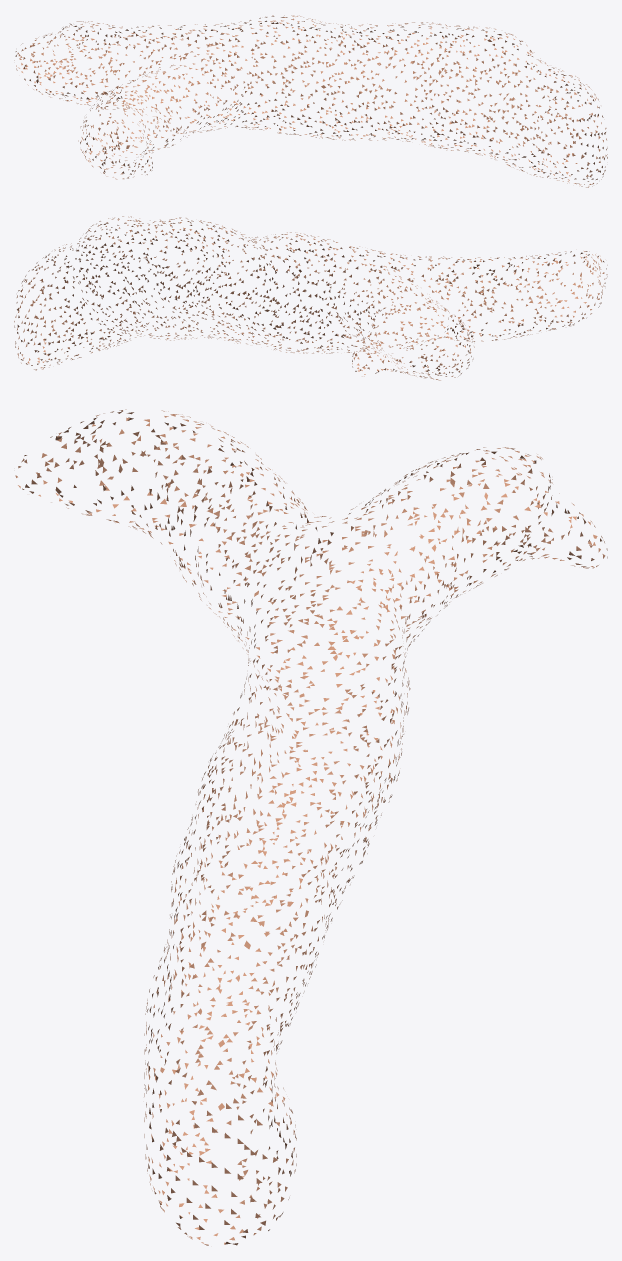
File: morph_004.glb
The picture shows the model from 3 angles, top to bottom: view 1: azimuth 30°, elevation 25°; view 2: azimuth 150°, elevation 25°; view 3: azimuth 270°, elevation 25°; orthographic projection. The views are drawn at different scales.
Size of the model in its own units: 130 by 49.98 by 68.31.
